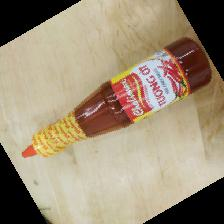Tuong: (22, 36, 214, 161)
